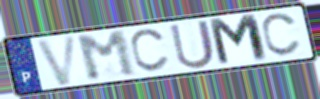C: (128, 26, 172, 74), (259, 11, 303, 58)
M: (206, 12, 272, 69), (73, 29, 140, 84)
U: (167, 18, 218, 71)
V: (34, 33, 80, 88)
